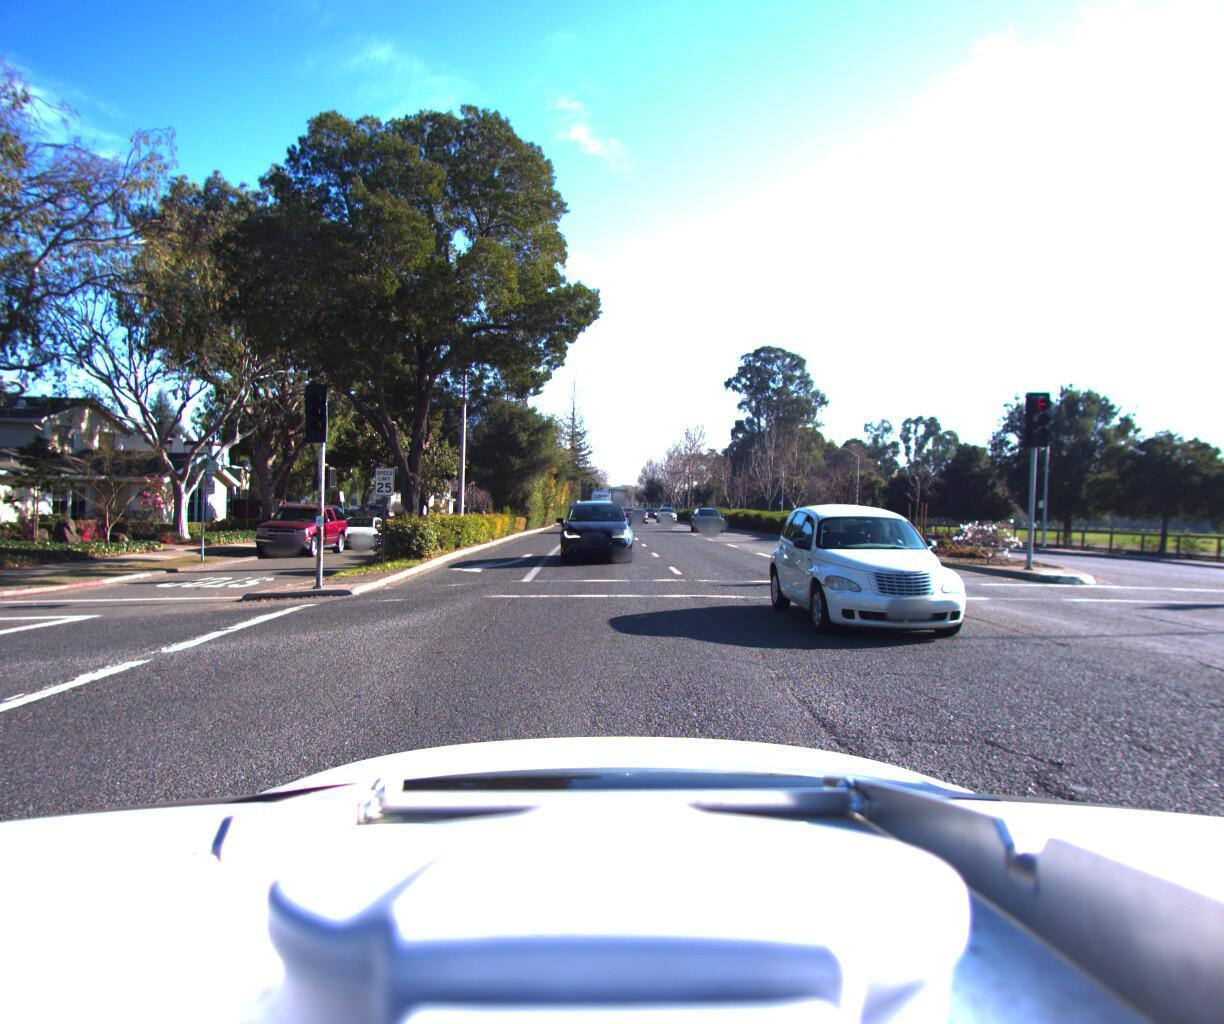car: (757, 499, 999, 651), (554, 497, 636, 575), (248, 505, 351, 565), (325, 518, 393, 556), (687, 510, 723, 540), (654, 510, 678, 529)
